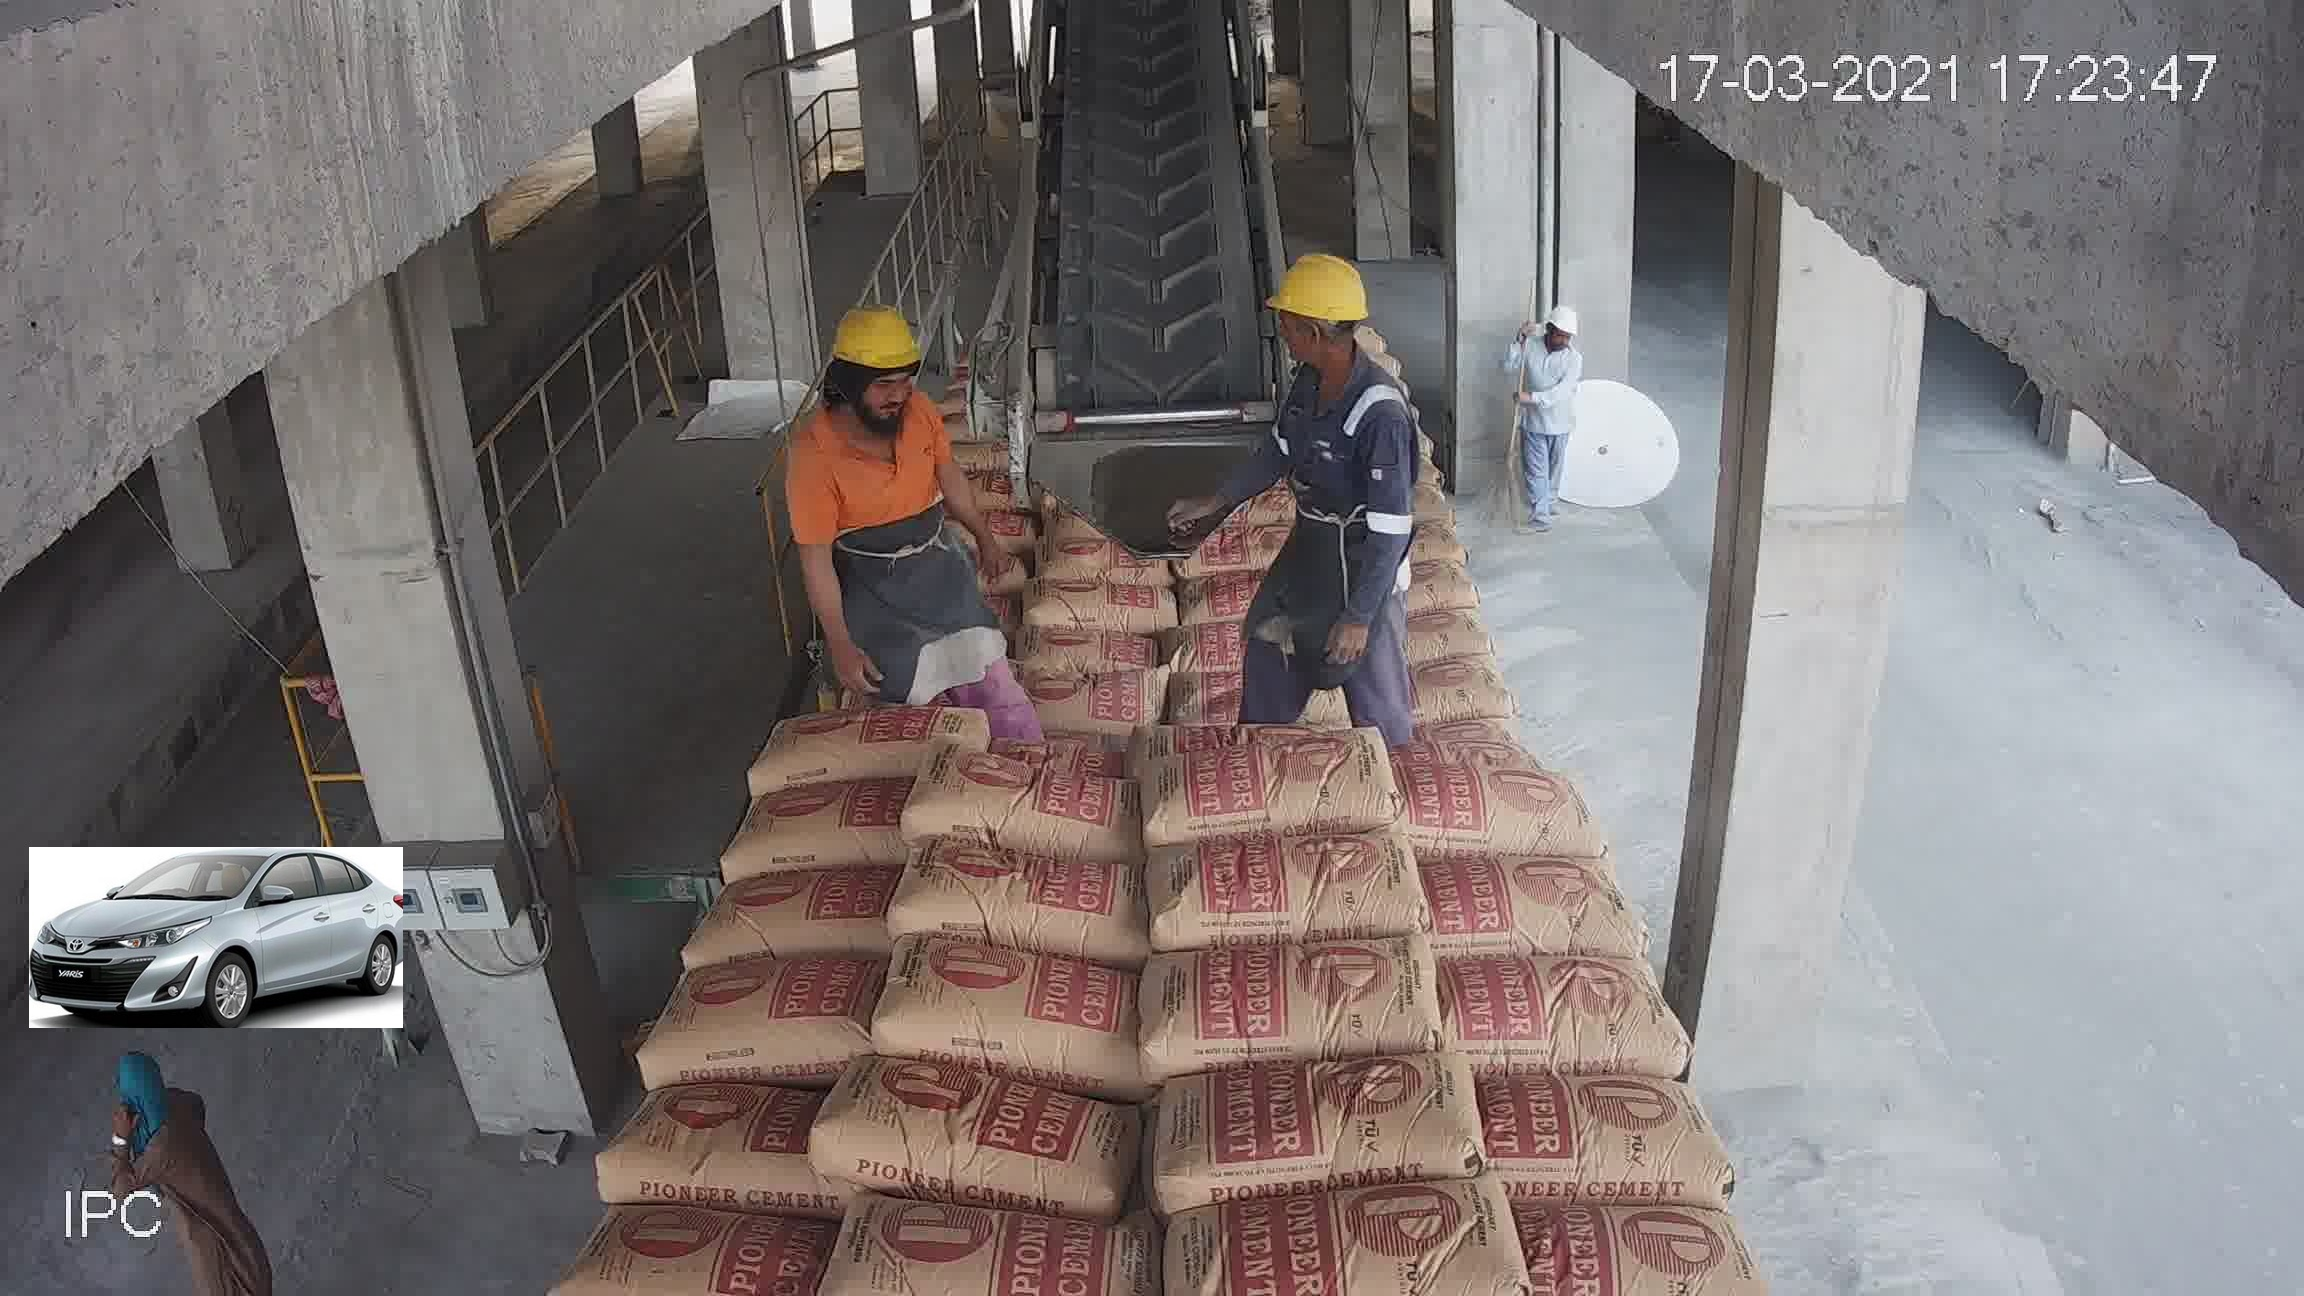bag: (1054, 8, 1252, 339), (1100, 17, 1198, 101)
bag_h: (1160, 1165, 1514, 1285), (1166, 1055, 1470, 1180), (824, 1059, 1146, 1169), (1141, 824, 1416, 948), (562, 1078, 824, 1199), (1494, 1054, 1714, 1188), (642, 954, 870, 1081), (836, 1180, 1150, 1271), (1182, 951, 1438, 1062), (1147, 726, 1396, 837), (1438, 957, 1665, 1078), (877, 859, 1158, 956), (886, 761, 1138, 861), (1146, 571, 1374, 679), (1423, 847, 1612, 970), (1154, 654, 1399, 748), (886, 961, 1138, 1052), (1521, 1184, 1720, 1296), (584, 1195, 805, 1294), (676, 859, 900, 957), (1130, 524, 1358, 614), (1359, 696, 1567, 791), (714, 785, 921, 872), (940, 682, 1139, 763), (1386, 786, 1601, 859), (965, 612, 1154, 690), (739, 709, 934, 783), (824, 521, 987, 604), (1366, 628, 1541, 706), (964, 567, 1146, 639), (772, 642, 942, 718), (1347, 570, 1519, 639), (967, 519, 1144, 579), (802, 578, 965, 642), (1163, 503, 1332, 563), (1328, 514, 1495, 574), (891, 468, 1022, 510), (911, 437, 1032, 475), (1166, 423, 1282, 460), (1169, 389, 1264, 430), (934, 405, 1022, 445), (1214, 361, 1287, 396)
